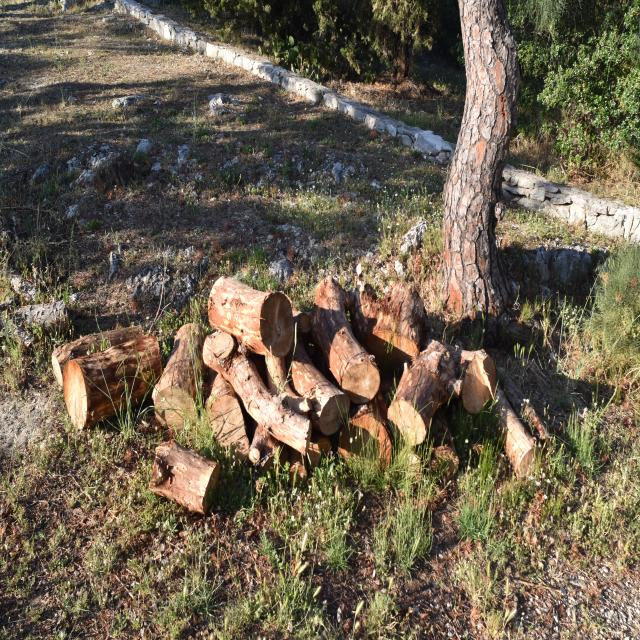restos de madeira: (216, 332, 321, 469), (54, 325, 163, 427), (310, 280, 381, 402), (210, 280, 302, 358), (152, 316, 212, 434), (140, 436, 226, 514), (429, 337, 499, 416), (488, 390, 546, 483), (388, 343, 438, 445), (365, 284, 428, 359), (492, 363, 550, 443), (338, 405, 397, 481), (424, 413, 463, 475), (281, 454, 310, 483), (303, 441, 336, 462)
